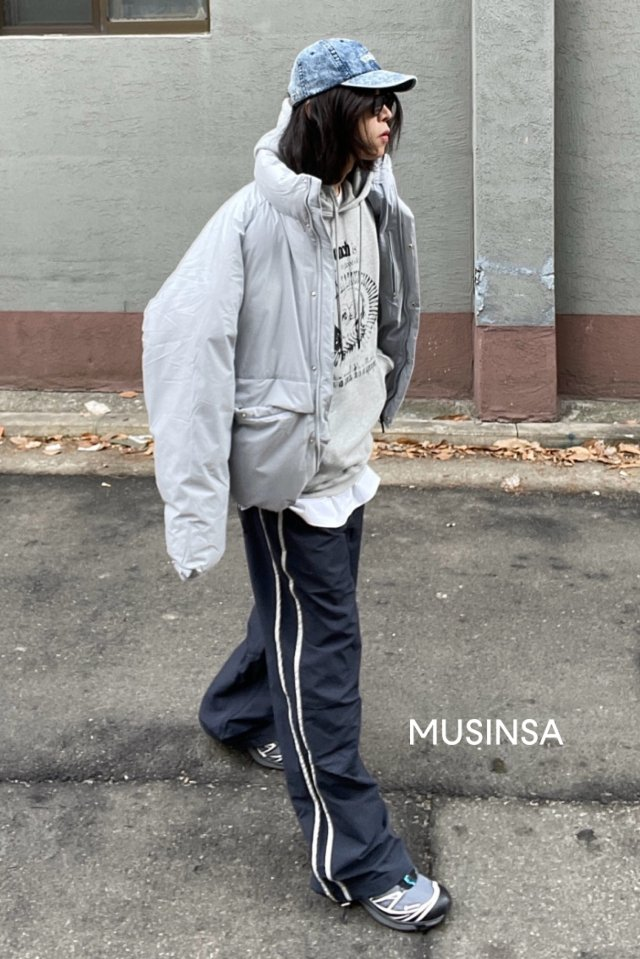Bubble jacket: (134, 160, 424, 547)
Cap: (275, 34, 423, 95)
Glasses: (358, 95, 397, 115)
Pants: (210, 493, 411, 891)
Shoes: (360, 860, 458, 937)
